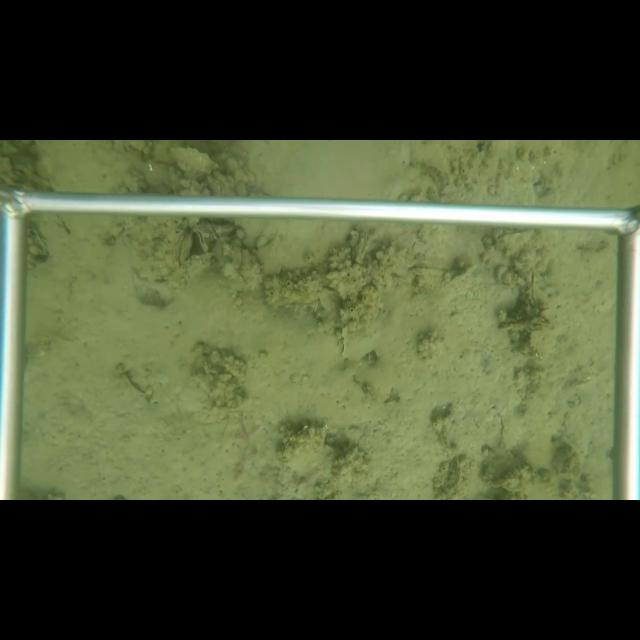Oyster-Closed: (283, 422, 347, 485), (167, 147, 221, 181), (175, 229, 192, 267), (339, 326, 350, 364)
Oyster-Open: (527, 269, 547, 312), (192, 224, 211, 254), (204, 222, 225, 243)
